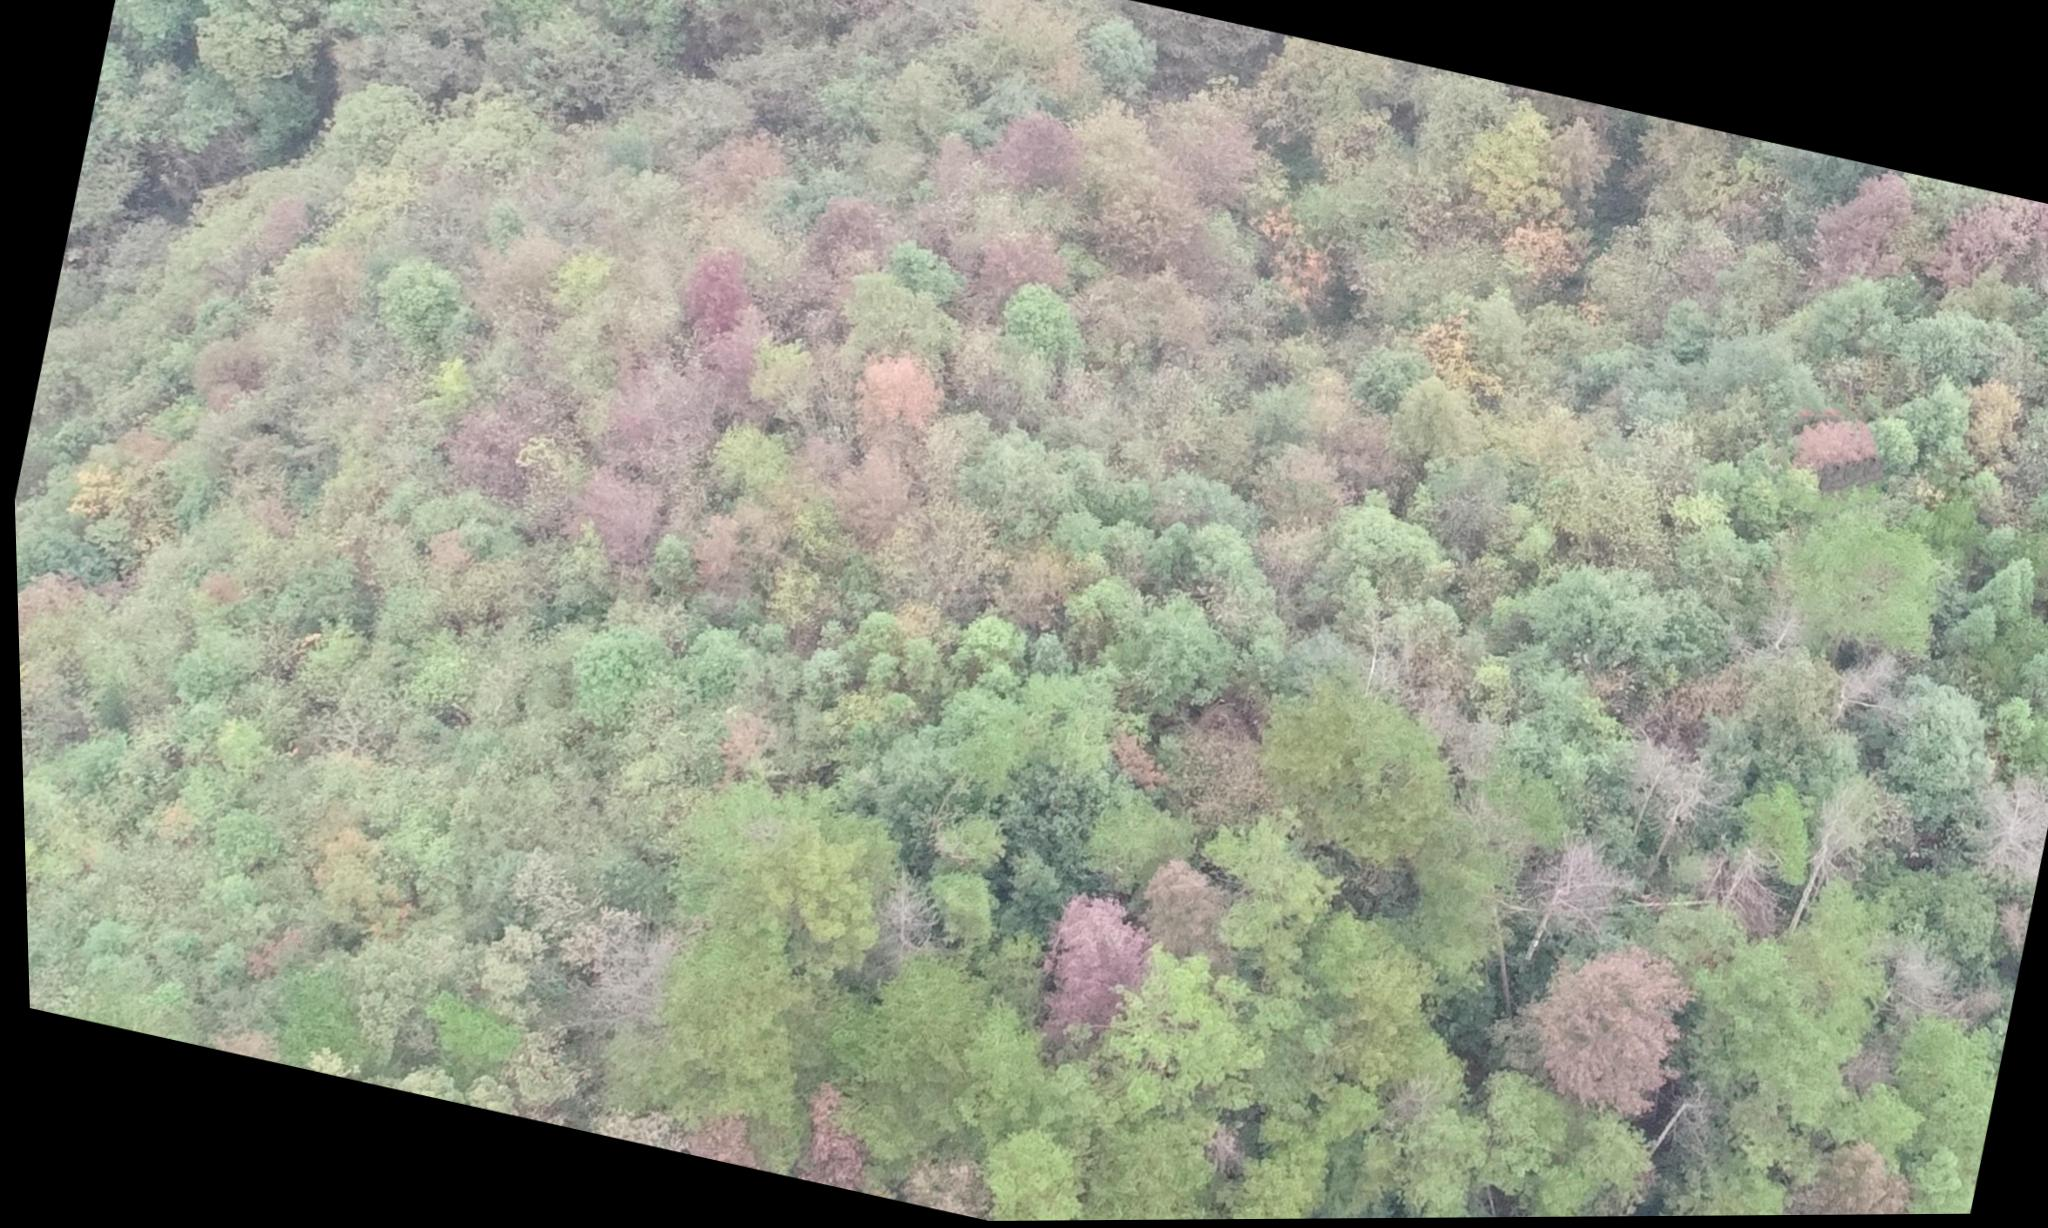heavy: (1468, 903, 1723, 1168), (998, 873, 1224, 1126)
